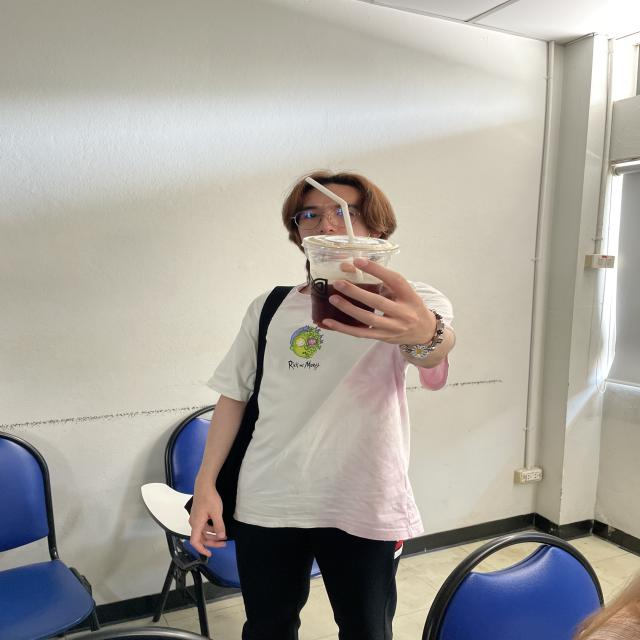cup: (301, 232, 404, 335)
